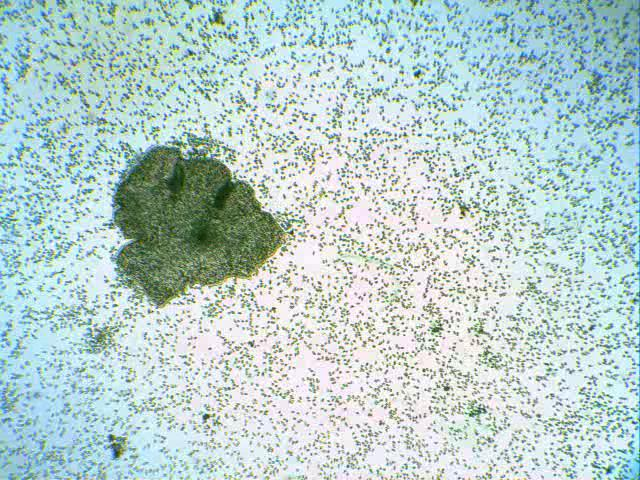Placozoan: (111, 146, 287, 308)
